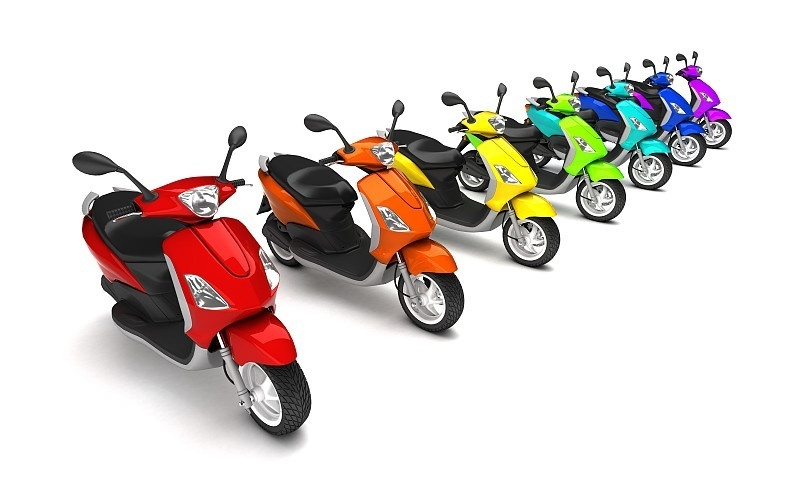non-vehicle: (82, 161, 307, 434), (261, 118, 463, 325), (417, 85, 552, 266), (520, 71, 614, 223), (582, 56, 665, 195), (625, 55, 702, 167), (669, 55, 733, 147)
